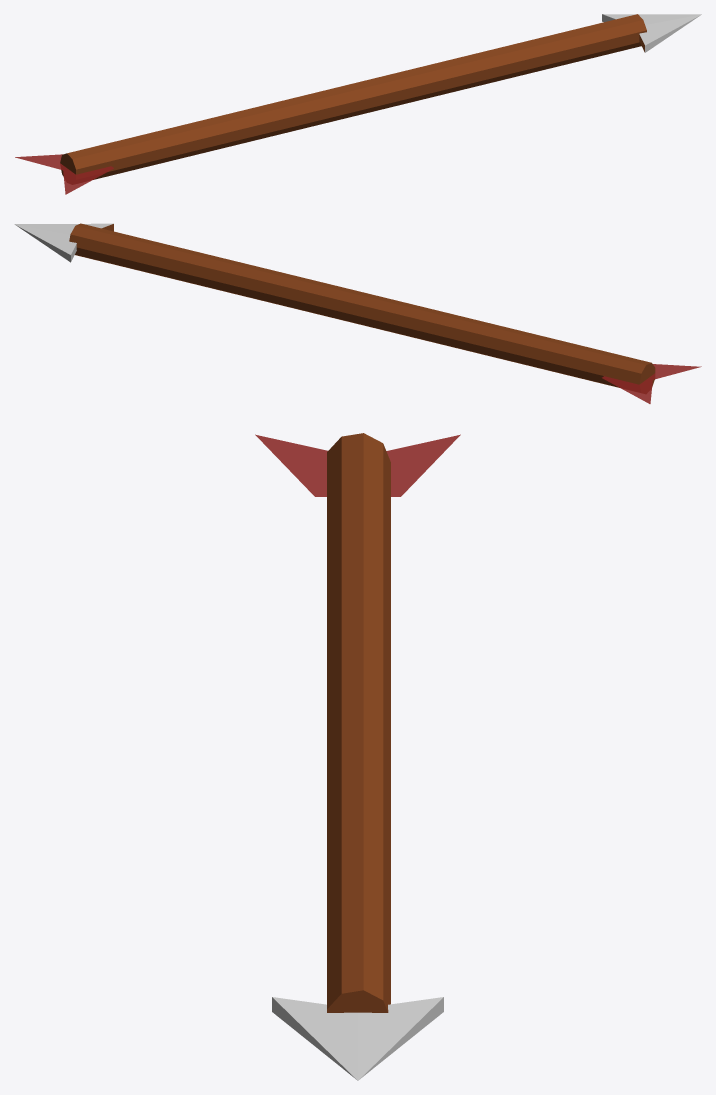
The model's file is ArrowTEXT.fbx.
3 views of the same model, one above another, from view 1: azimuth 30°, elevation 25°; view 2: azimuth 150°, elevation 25°; view 3: azimuth 270°, elevation 25° (orthographic). The views are drawn at different scales.
Parts seen in each view (by area): view 1: Plane; view 2: Plane; view 3: Plane.
Part boxes in pixels (x1=…): Plane: x1=15, y1=14, x2=701, y2=194; Plane: x1=14, y1=223, x2=701, y2=403; Plane: x1=255, y1=433, x2=460, y2=1080.
Size of the model in its own units: 464 by 19.7 by 62.55.
